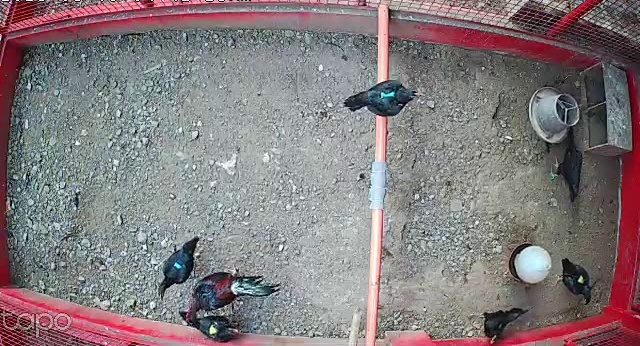Chicken: (342, 69, 426, 119), (547, 124, 589, 206), (468, 301, 528, 346), (157, 235, 199, 299), (175, 308, 247, 344), (556, 256, 598, 308), (210, 323, 219, 333)
Rooster: (183, 262, 278, 321)
Saddle_Color_Blue: (173, 262, 182, 270)
Saddle_Color_YellowGreen: (577, 274, 586, 287)
